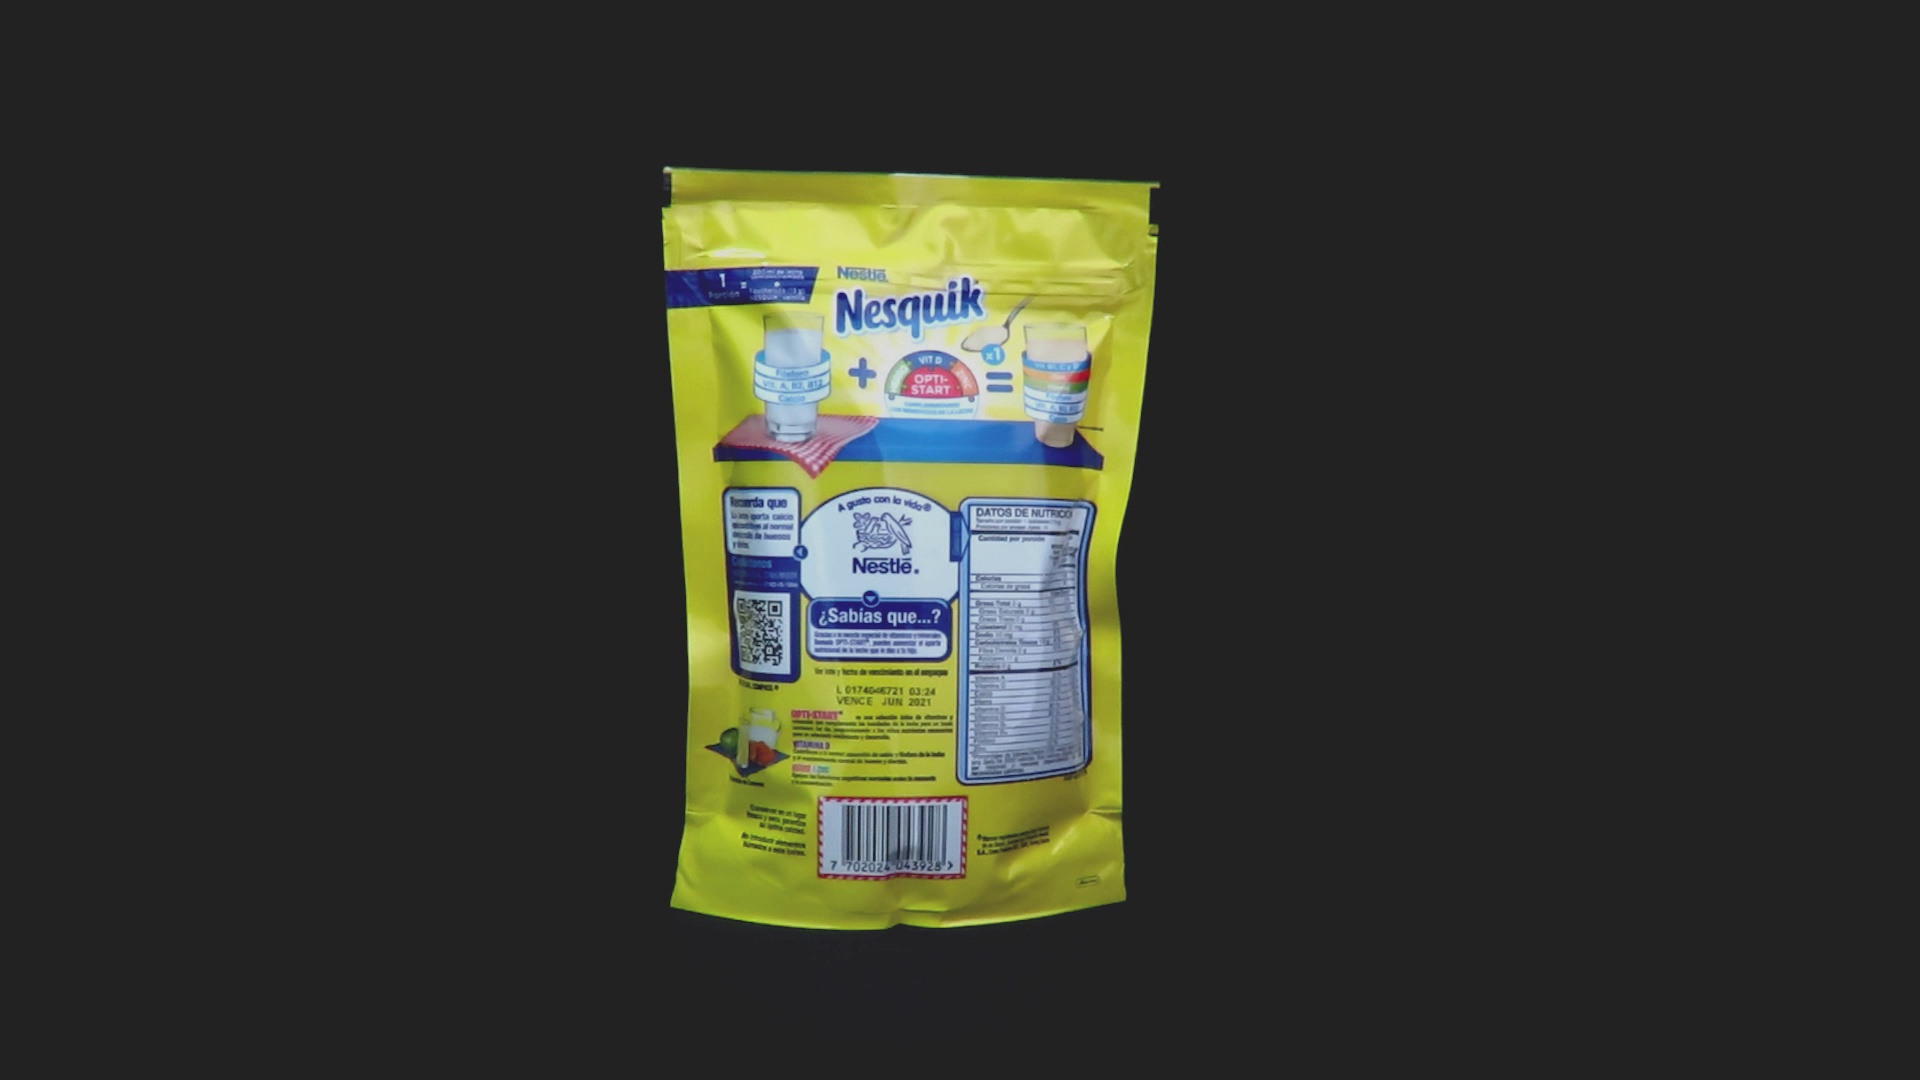COL0170306DYP20000: (699, 480, 1104, 887)
